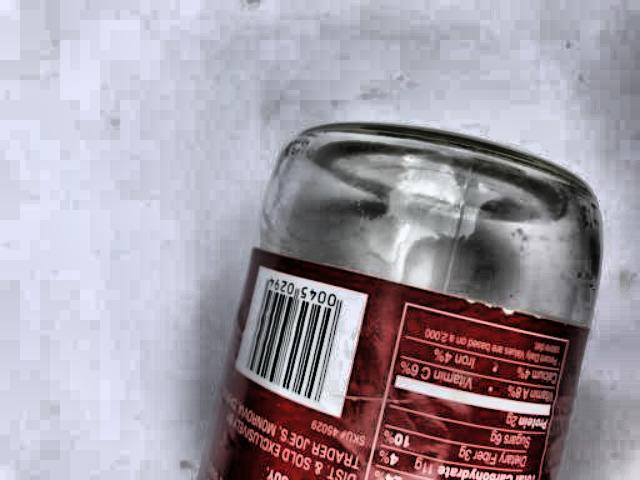Almennt: (182, 101, 607, 480)
